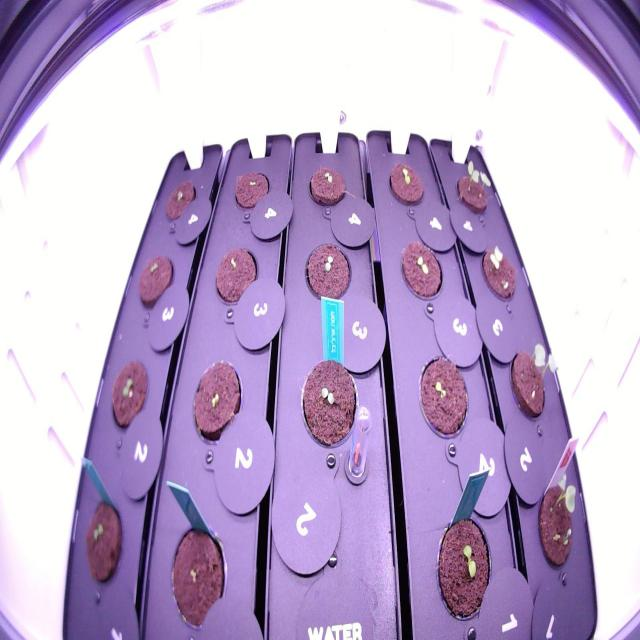germination: (162, 509, 235, 639), (430, 497, 498, 633), (289, 348, 362, 459), (504, 332, 568, 438), (411, 342, 474, 448), (185, 349, 248, 453), (531, 460, 581, 583), (78, 490, 128, 594), (209, 231, 260, 315), (106, 350, 154, 438), (397, 227, 448, 309), (472, 228, 522, 311), (300, 237, 354, 311), (133, 241, 180, 324), (452, 154, 500, 221), (383, 153, 430, 214), (303, 161, 352, 214), (228, 160, 272, 219), (159, 170, 200, 226)
